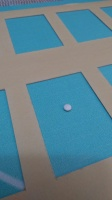Yuvarlak Buskopan: (63, 103, 72, 113)
